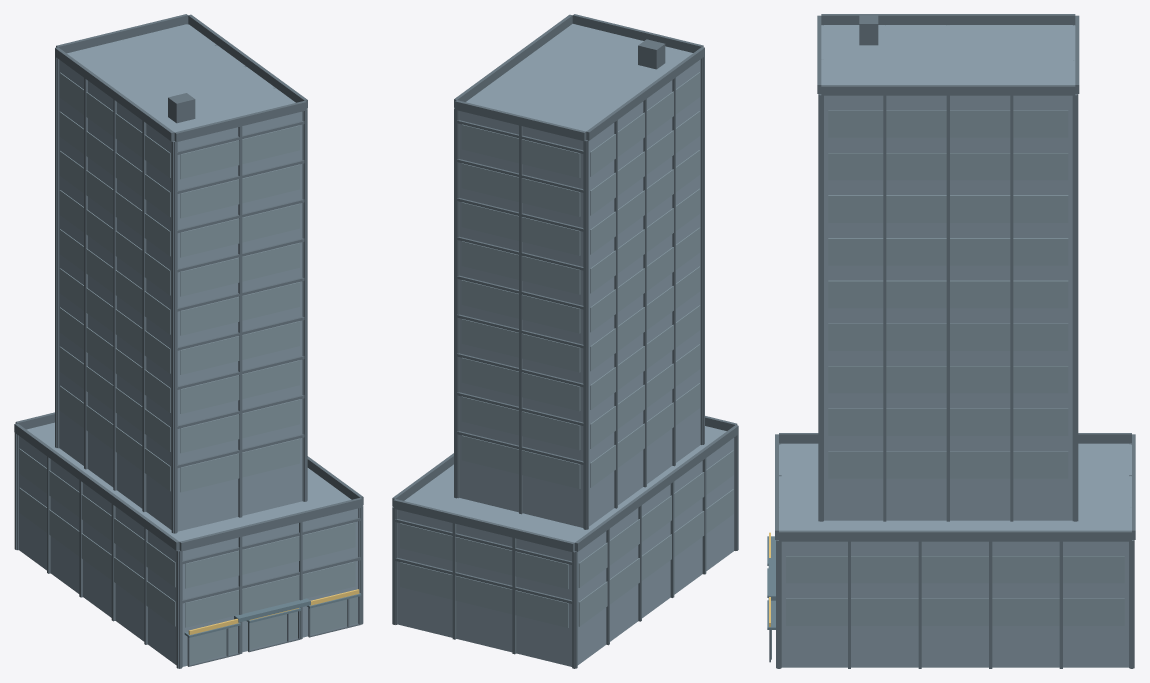
File: commercial_2x3_b.glb
The picture shows the model from 3 angles, left to right: view 1: azimuth 30°, elevation 25°; view 2: azimuth 150°, elevation 25°; view 3: azimuth 270°, elevation 25°; orthographic projection. The views are drawn at different scales.
Parts seen in each view (by area): view 1: commercial_2x3_b_0; view 2: commercial_2x3_b_0; view 3: commercial_2x3_b_0.
Part boxes in pixels (box(x1,y1,x2,y2)): commercial_2x3_b_0: box(14, 14, 363, 668); commercial_2x3_b_0: box(392, 14, 738, 668); commercial_2x3_b_0: box(767, 14, 1135, 668).
Bounding box in the file's own units: 15 × 40.5 × 23.5.
